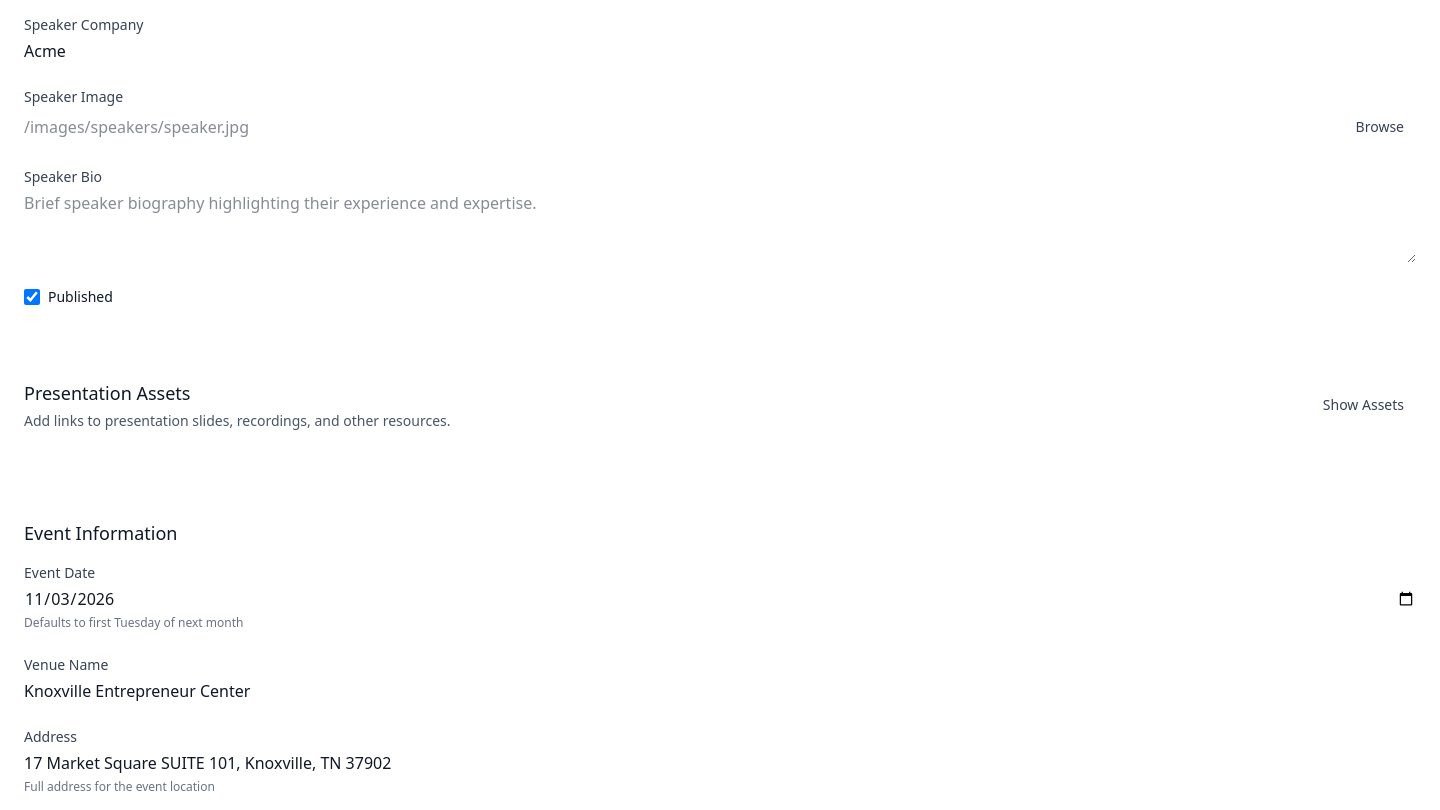
Scenario: BlogPostEditor - assets › shows a 'no assets found' state with searched locations when the list is empty
(page scrolled)
Click the button "Show Assets" at (1363, 405), box [1311, 389, 1416, 421]
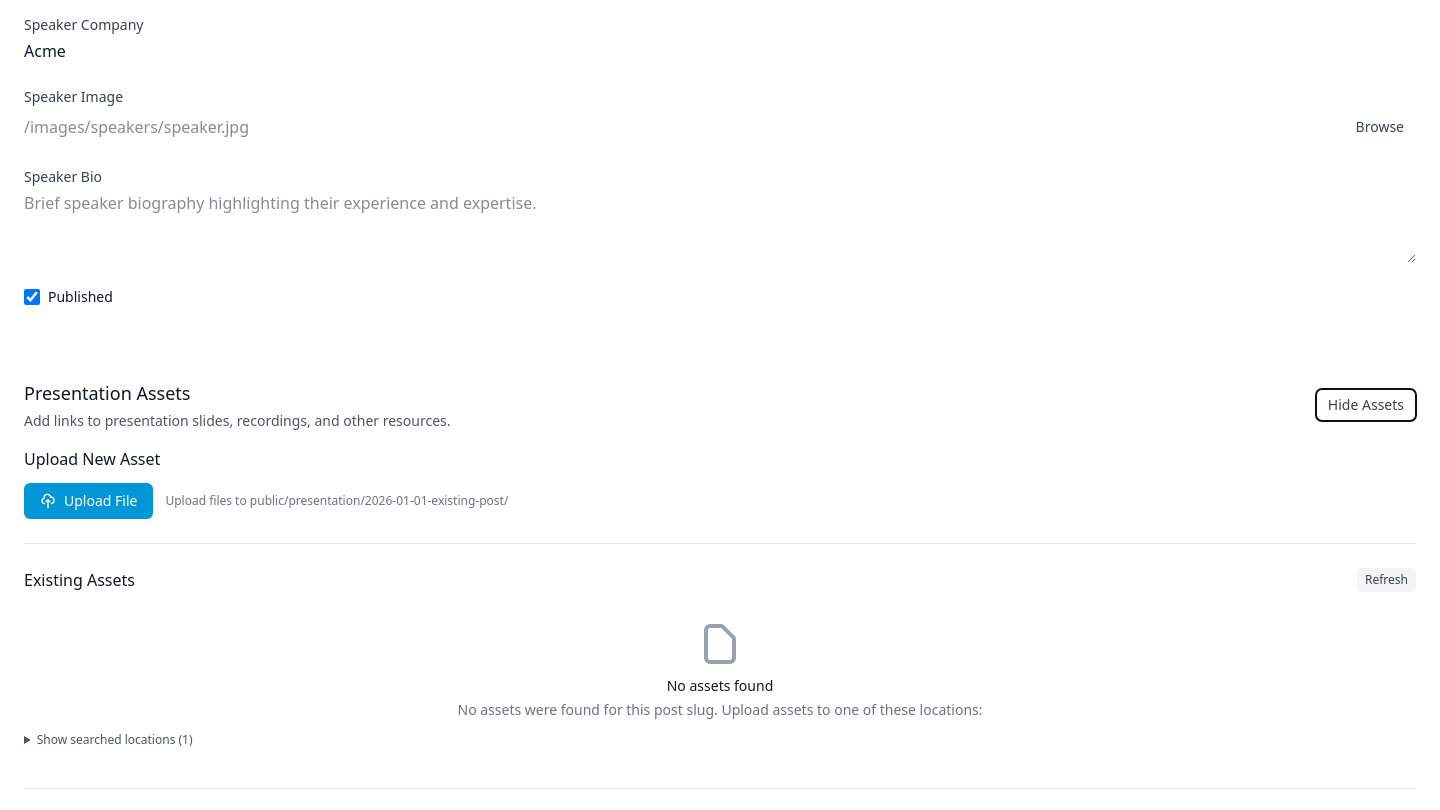
Check: the heading "No assets found" is shown, box [667, 676, 773, 695]
Click the heading "Show searched locations (1)" at (115, 740), box [37, 731, 193, 748]
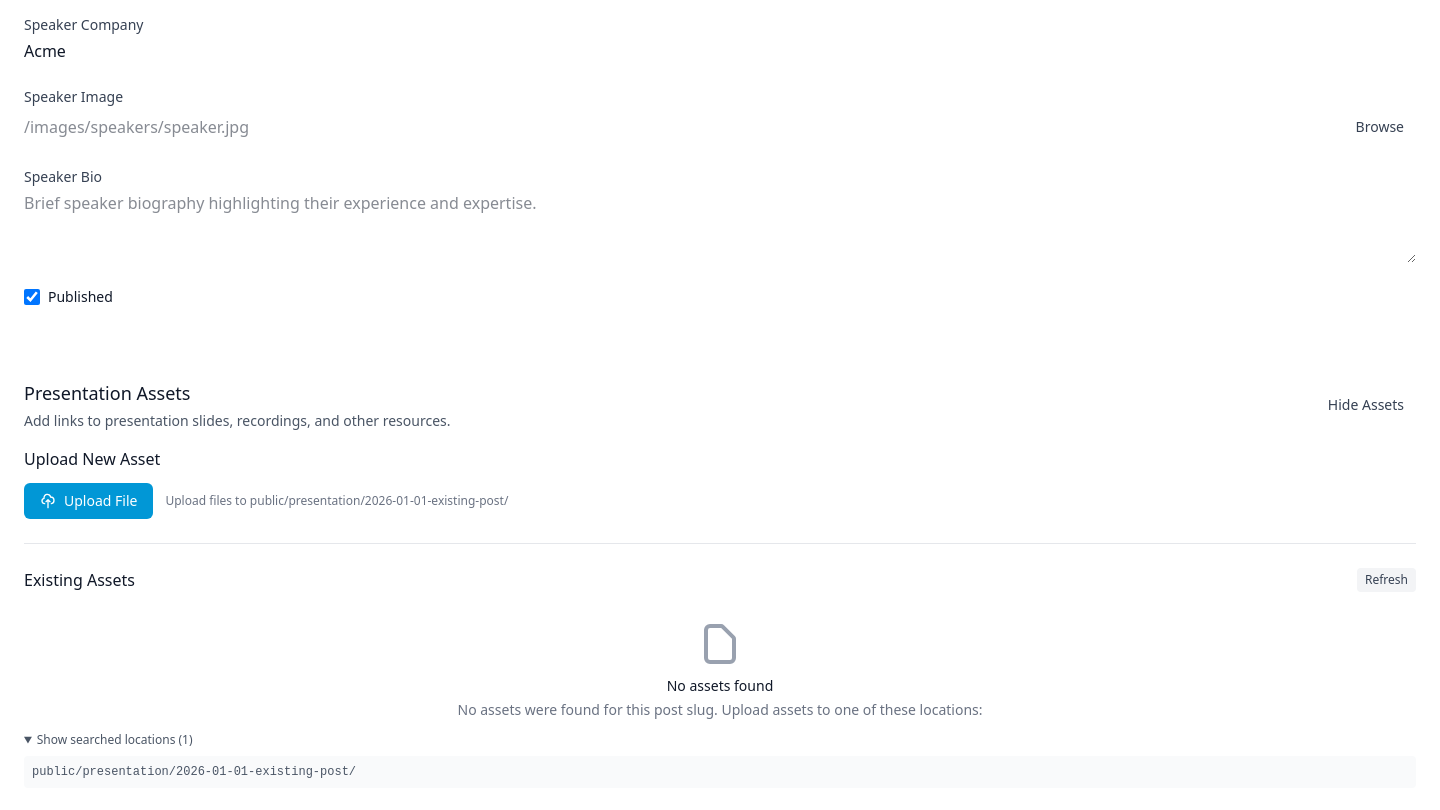
Check: the list item "public/presentation/2026-01-01-existing-post/" is shown, box [32, 765, 356, 779]
